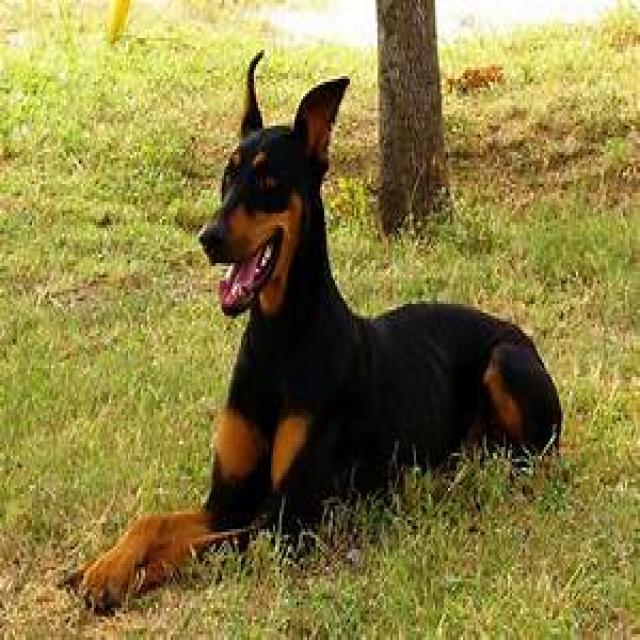dog: (76, 53, 560, 610)
